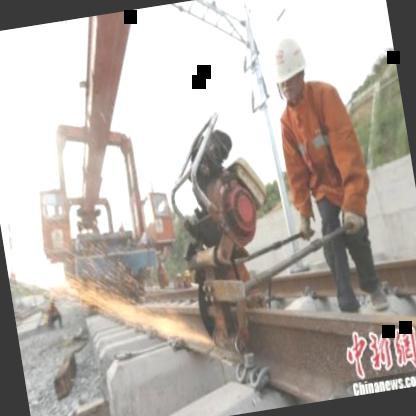helmet: (262, 23, 316, 115)
